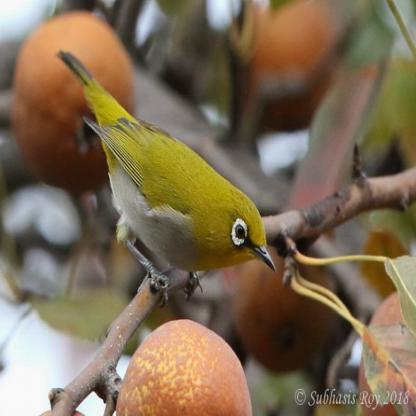Burung: (57, 48, 276, 308)
